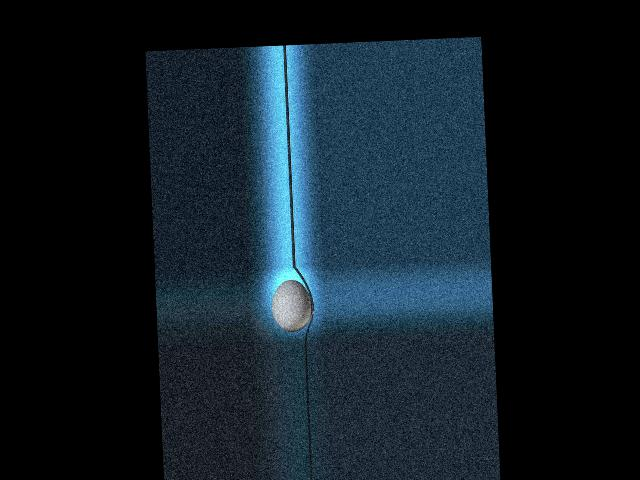egg: (271, 279, 312, 332)
